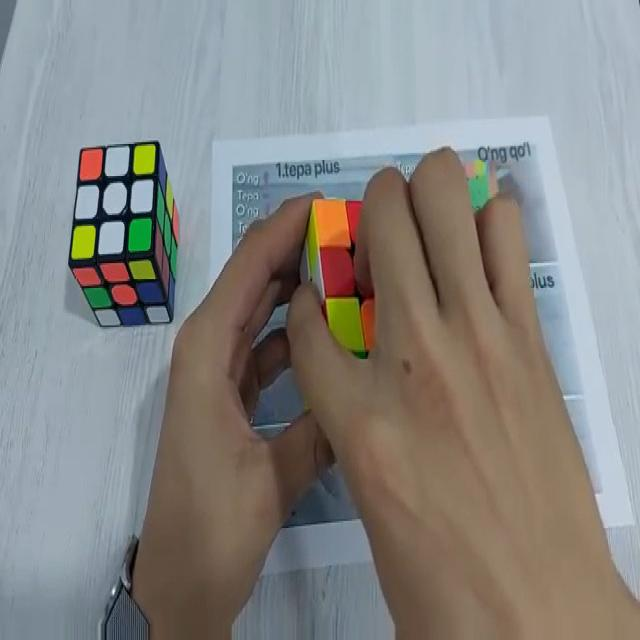Rub: (68, 140, 182, 330), (295, 196, 378, 354)
